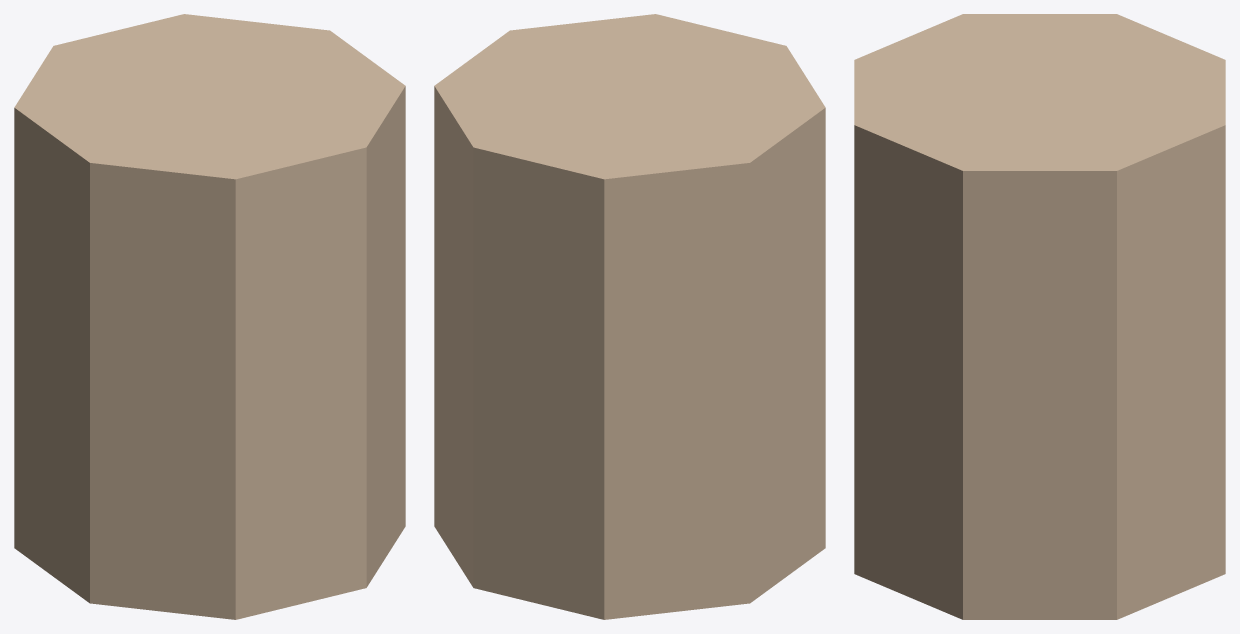
Rendered from nashira_truss_s1_1_collider.obj.
The picture shows the model from 3 angles, left to right: view 1: azimuth 30°, elevation 25°; view 2: azimuth 150°, elevation 25°; view 3: azimuth 270°, elevation 25°; orthographic projection.
Parts seen in each view (by area): view 1: collider; view 2: collider; view 3: collider.
Part boxes in pixels (x1=…): collider: x1=14, y1=14, x2=405, y2=619; collider: x1=434, y1=14, x2=825, y2=619; collider: x1=854, y1=14, x2=1225, y2=619.
Size of the model in its own units: 1.5 by 2 by 1.5.
